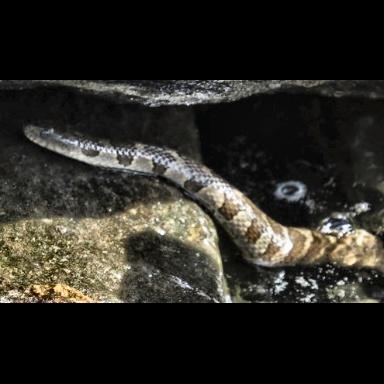snake: (23, 124, 384, 275)
